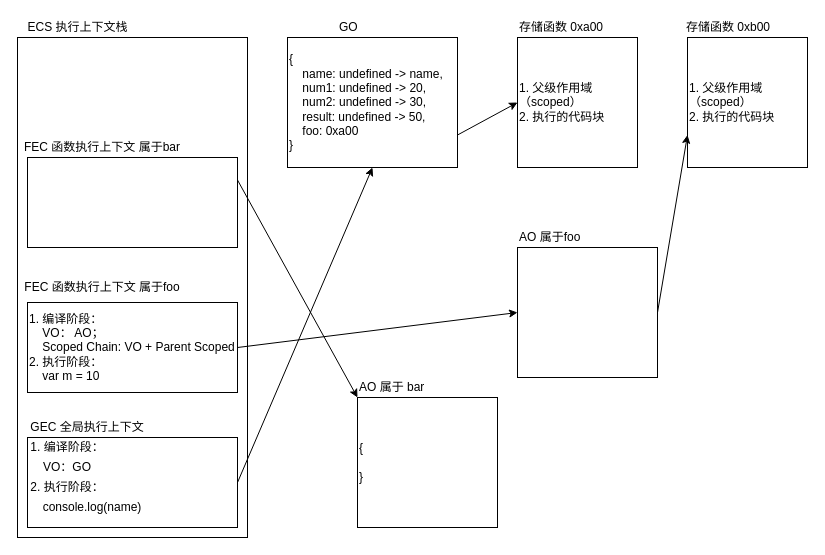
The diagram is 825 pixels wide and 555 high, and some of its shapes have lost their labels. The centre of each missing label's shape, as x and y in pixels:
"1. 编译阶段： VO： AO； Scoped Chain: VO + foo的AO 2. 执行阶段：" goes at point (132, 202).
"{ num: undefined m: undefined -> 10 bar: 0xb00 }" goes at point (587, 312).
